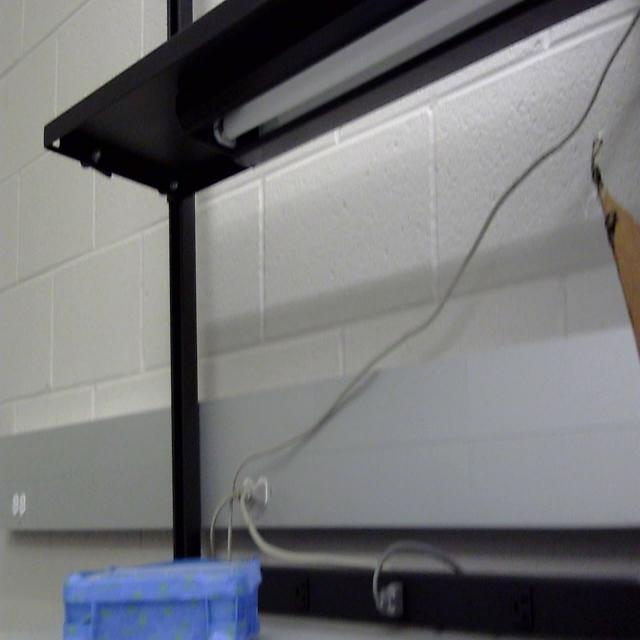bucket: (61, 551, 265, 640)
